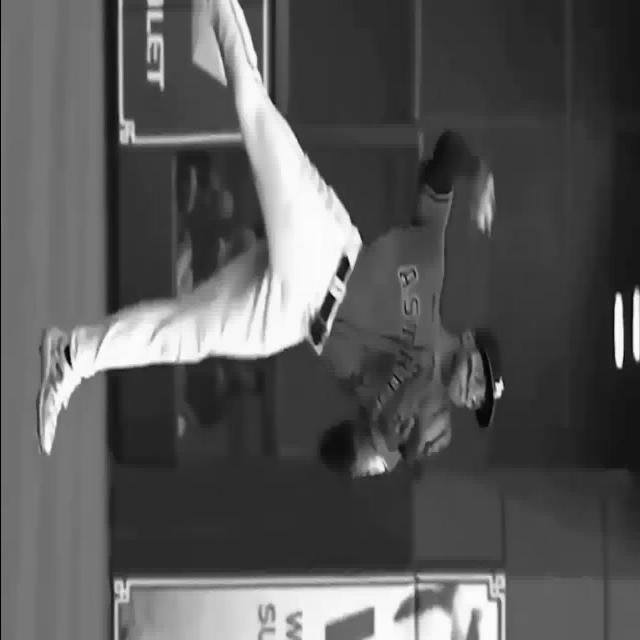baseball: (473, 172, 495, 234)
baseball_glove: (378, 367, 452, 464)
shoe: (36, 326, 78, 456)
